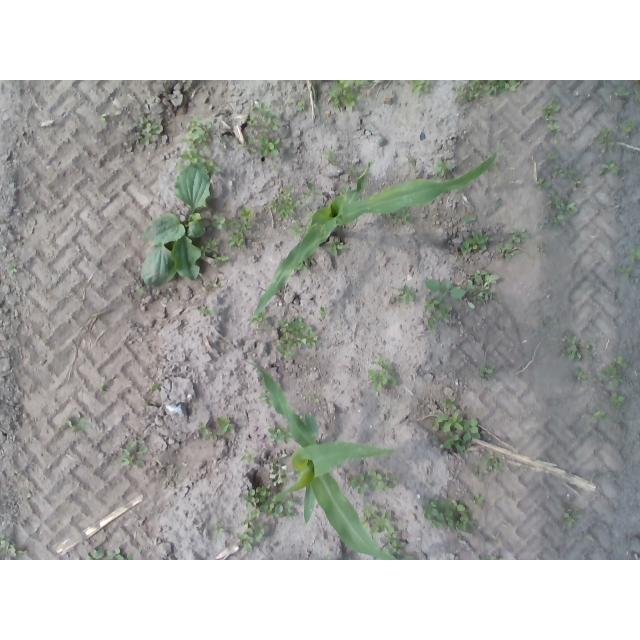Maize: (249, 143, 500, 324), (245, 360, 412, 560)
Weeds: (142, 165, 210, 291), (423, 271, 501, 328), (535, 164, 582, 228), (238, 104, 282, 159), (432, 411, 480, 453), (422, 497, 471, 534), (453, 80, 525, 104), (277, 316, 318, 356), (210, 208, 252, 247), (346, 469, 402, 496), (264, 183, 301, 222), (328, 80, 370, 109), (177, 149, 224, 174), (361, 501, 396, 534), (367, 358, 400, 392), (597, 356, 631, 389), (183, 114, 214, 147), (500, 228, 531, 260), (269, 453, 296, 488), (472, 451, 501, 482), (202, 237, 231, 267), (137, 116, 164, 147), (237, 525, 267, 552), (121, 439, 148, 469), (198, 417, 234, 439), (458, 230, 490, 254), (62, 413, 94, 437), (239, 485, 273, 507), (390, 282, 417, 307), (558, 332, 582, 360), (271, 492, 296, 518), (85, 549, 134, 560), (380, 532, 405, 553), (543, 102, 561, 131), (267, 426, 293, 446), (389, 210, 419, 226), (240, 506, 264, 526), (302, 184, 324, 205), (564, 508, 585, 528), (286, 219, 306, 238), (436, 157, 453, 179), (598, 127, 615, 148), (598, 162, 619, 179), (591, 405, 610, 423), (327, 237, 344, 255), (572, 367, 588, 386), (608, 391, 629, 405), (242, 448, 258, 466), (410, 80, 430, 94), (325, 146, 340, 164), (197, 303, 215, 318), (620, 120, 635, 137), (252, 313, 269, 328), (480, 363, 497, 378), (441, 395, 458, 410), (407, 153, 420, 172), (209, 521, 223, 538), (614, 264, 635, 275), (584, 343, 596, 362), (547, 151, 562, 166), (257, 390, 271, 406), (614, 88, 635, 98), (1, 533, 12, 551), (627, 248, 640, 263), (149, 383, 163, 396), (318, 307, 330, 322), (471, 495, 487, 506), (480, 552, 500, 560), (100, 376, 110, 392), (296, 98, 305, 114), (298, 261, 315, 269), (461, 216, 476, 225), (7, 262, 18, 274), (134, 285, 147, 295), (584, 532, 597, 541), (307, 394, 320, 403), (345, 165, 364, 171), (542, 315, 550, 325), (102, 113, 109, 121), (434, 210, 441, 218), (221, 142, 228, 149)
